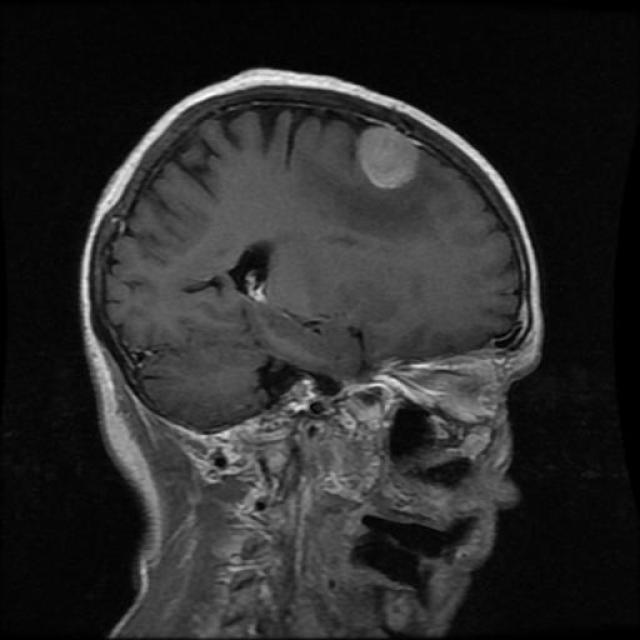meningioma: (359, 126, 420, 190)
